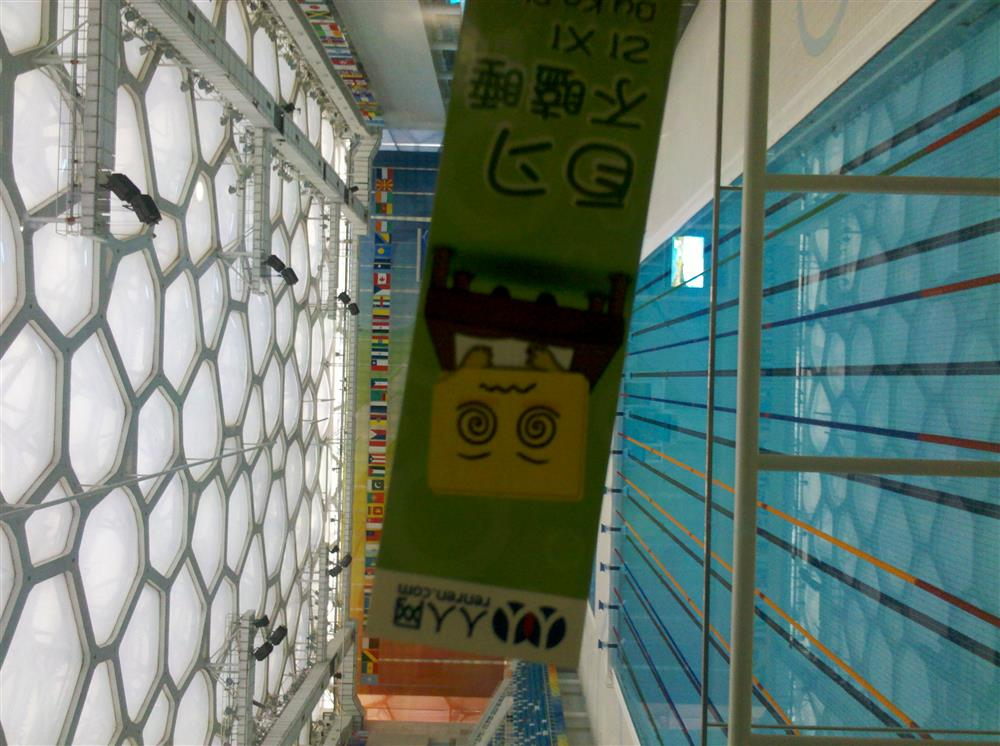Renren_bookmark: (366, 0, 684, 659)
